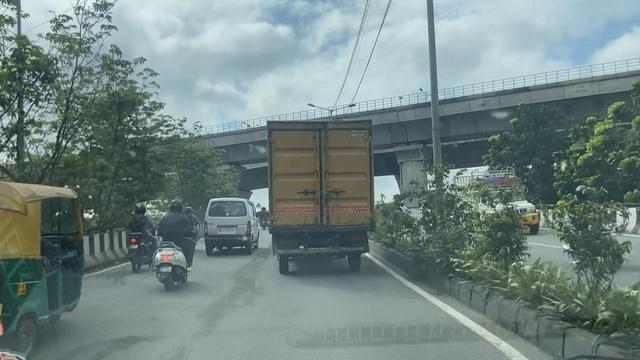HMV: (266, 122, 366, 268)
LMV: (0, 182, 89, 354), (204, 198, 252, 256), (160, 202, 188, 287), (128, 204, 144, 273)
